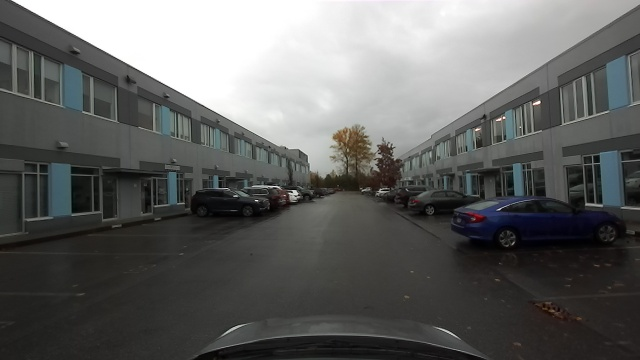car: (449, 192, 624, 248), (190, 189, 271, 220), (408, 189, 447, 219), (381, 189, 409, 203), (275, 192, 286, 211), (289, 190, 301, 205), (303, 189, 315, 203)
